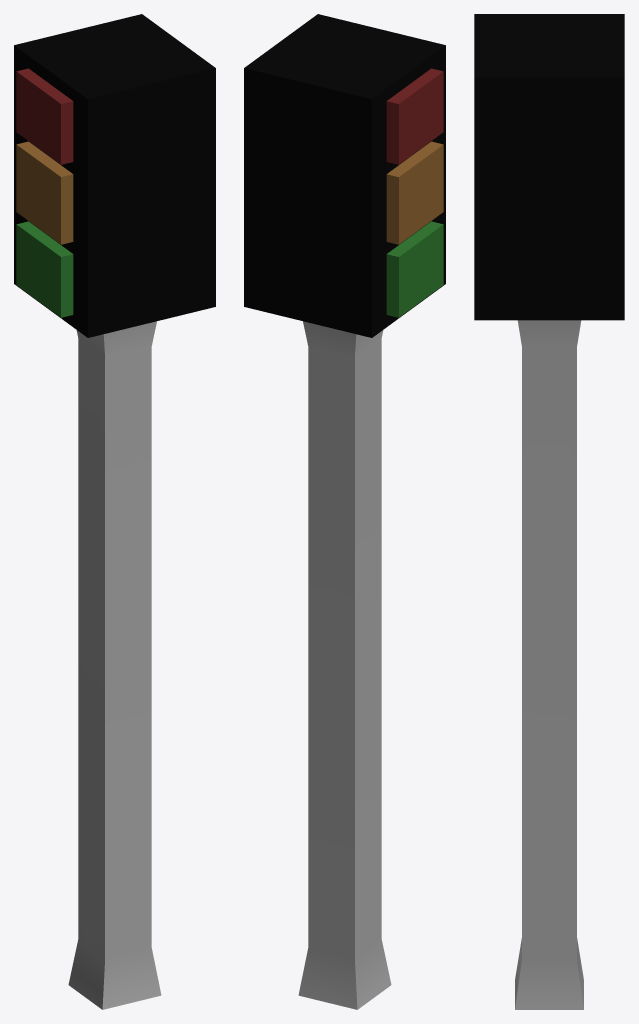
Rendered from Traffic_Light.fbx.
3 views of the same model, side by side, from view 1: azimuth 30°, elevation 25°; view 2: azimuth 150°, elevation 25°; view 3: azimuth 270°, elevation 25° (orthographic).
Visible parts, largest first — view 1: pCube1; view 2: pCube1; view 3: pCube1.
Boxes of the visible parts, x1=… form: pCube1: x1=14, y1=14, x2=215, y2=1009; pCube1: x1=244, y1=14, x2=445, y2=1009; pCube1: x1=474, y1=14, x2=624, y2=1009.
Bounding box in the file's own units: 0.9858 × 6.27 × 0.8998.
